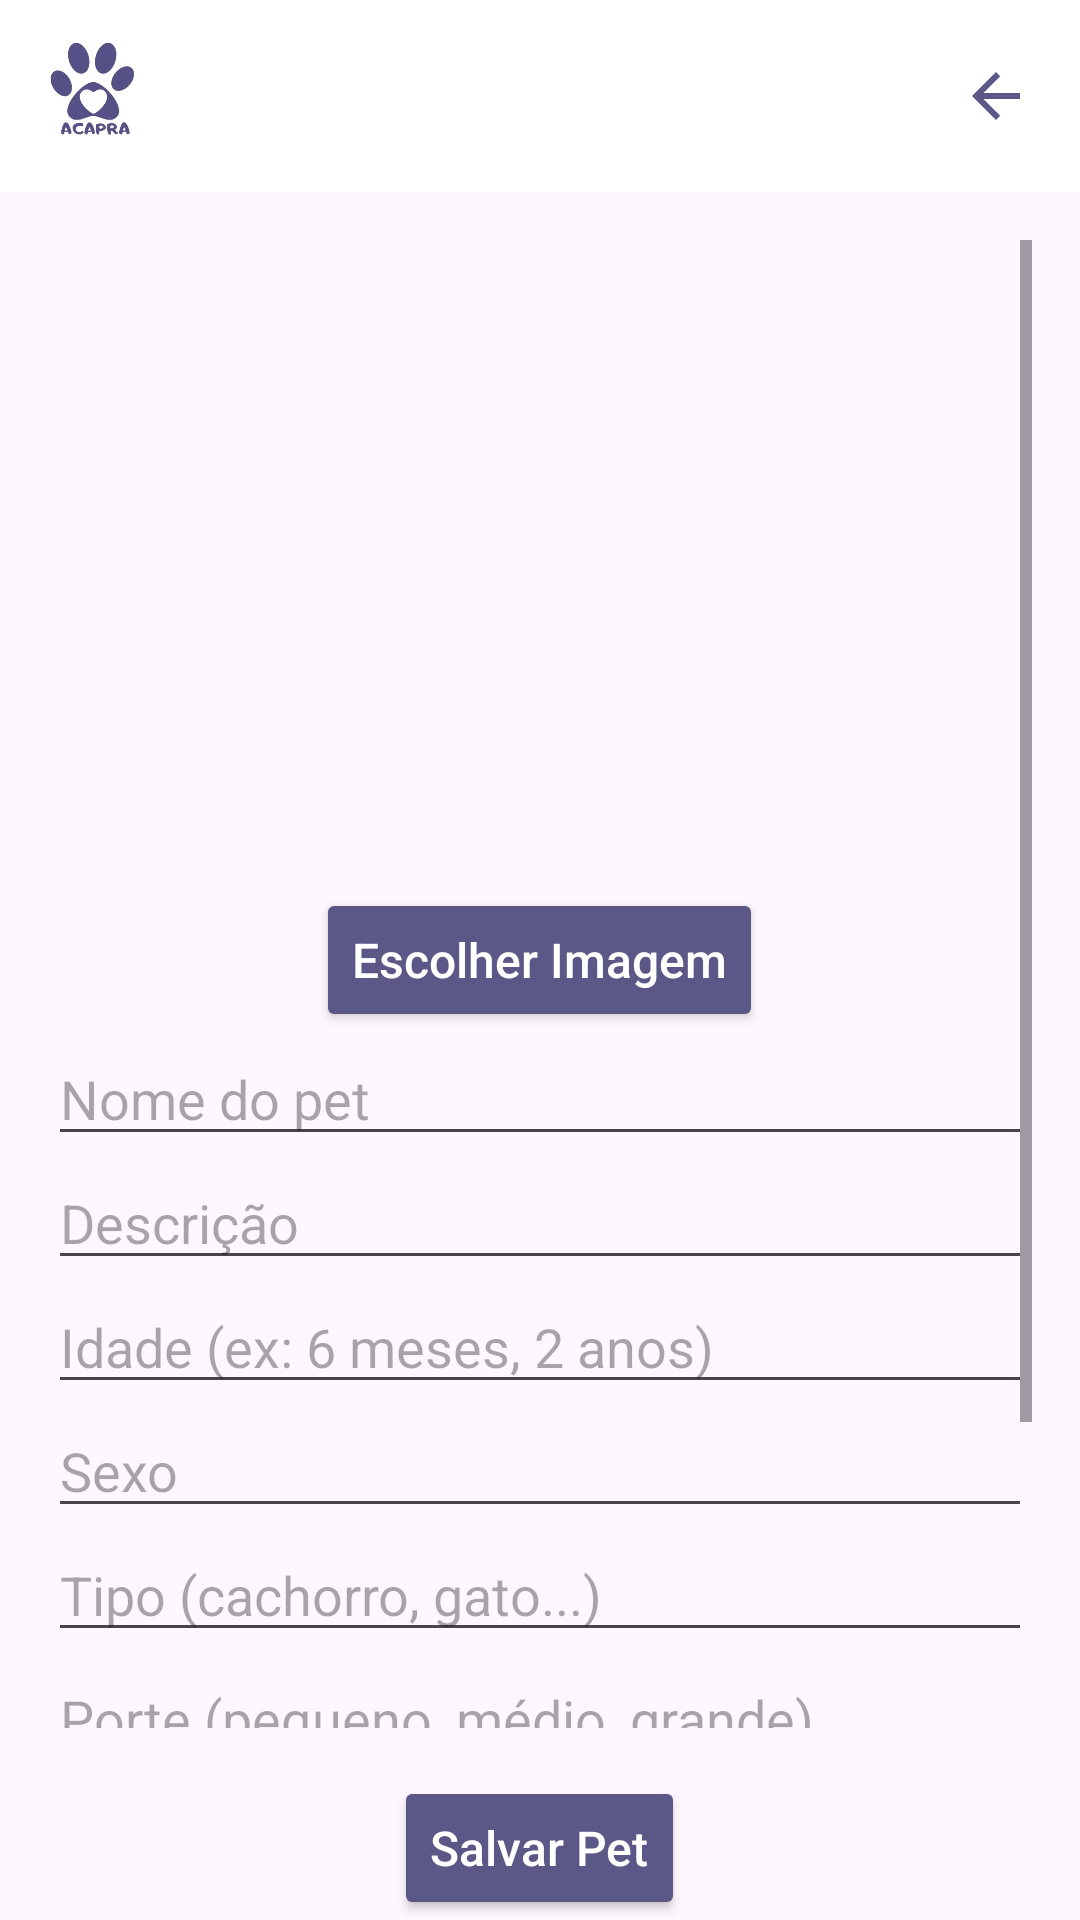

Named icons in this screenshot (1080 x 1920) and their bounding boxes, region(x1, y1, x2, y2):
Voltar: region(972, 72, 1020, 120)
